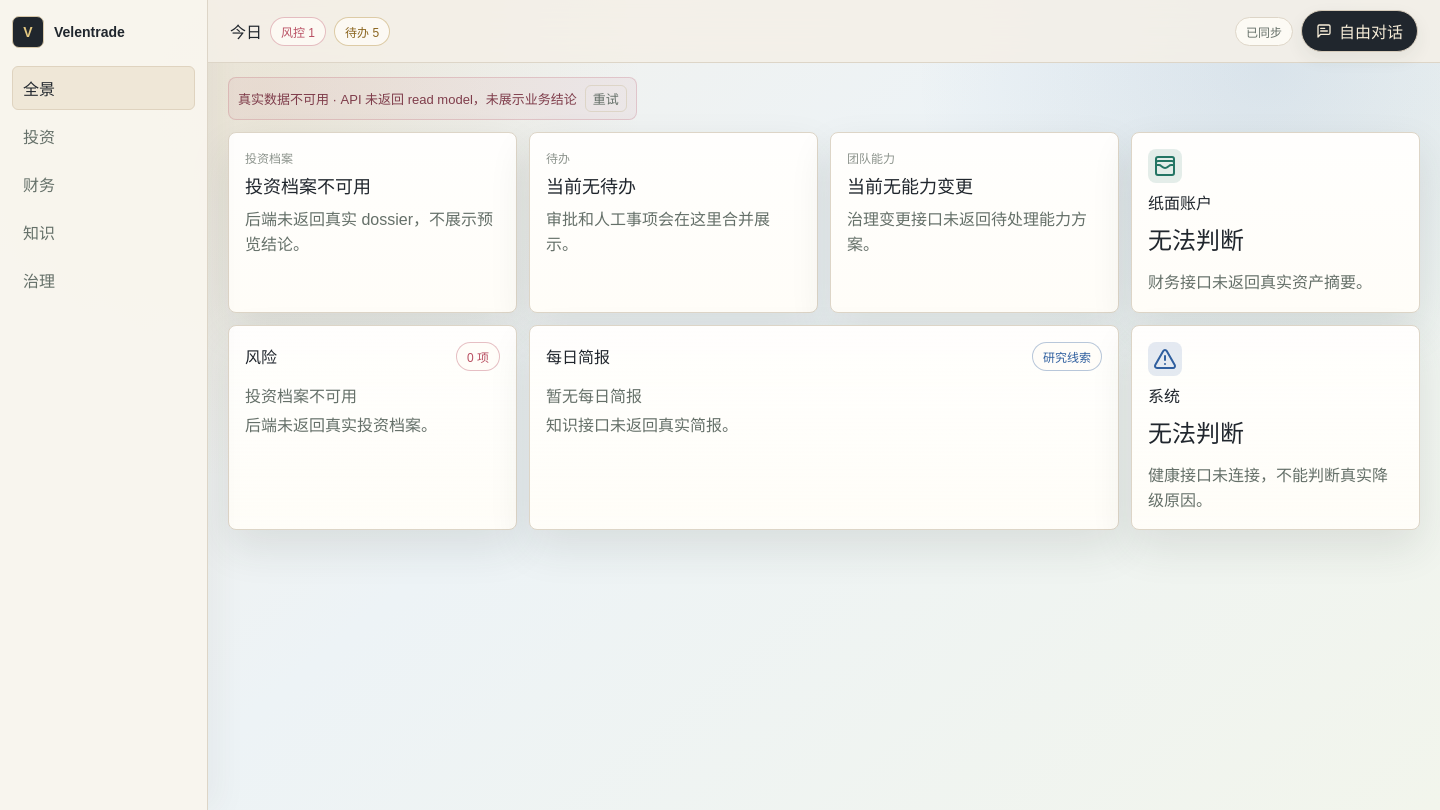
Test: WI-004 workbench interactions › disables duplicate request preview clicks while syncing with the API
Click the button "自由对话": (1360, 31) [1301,10,1418,52]
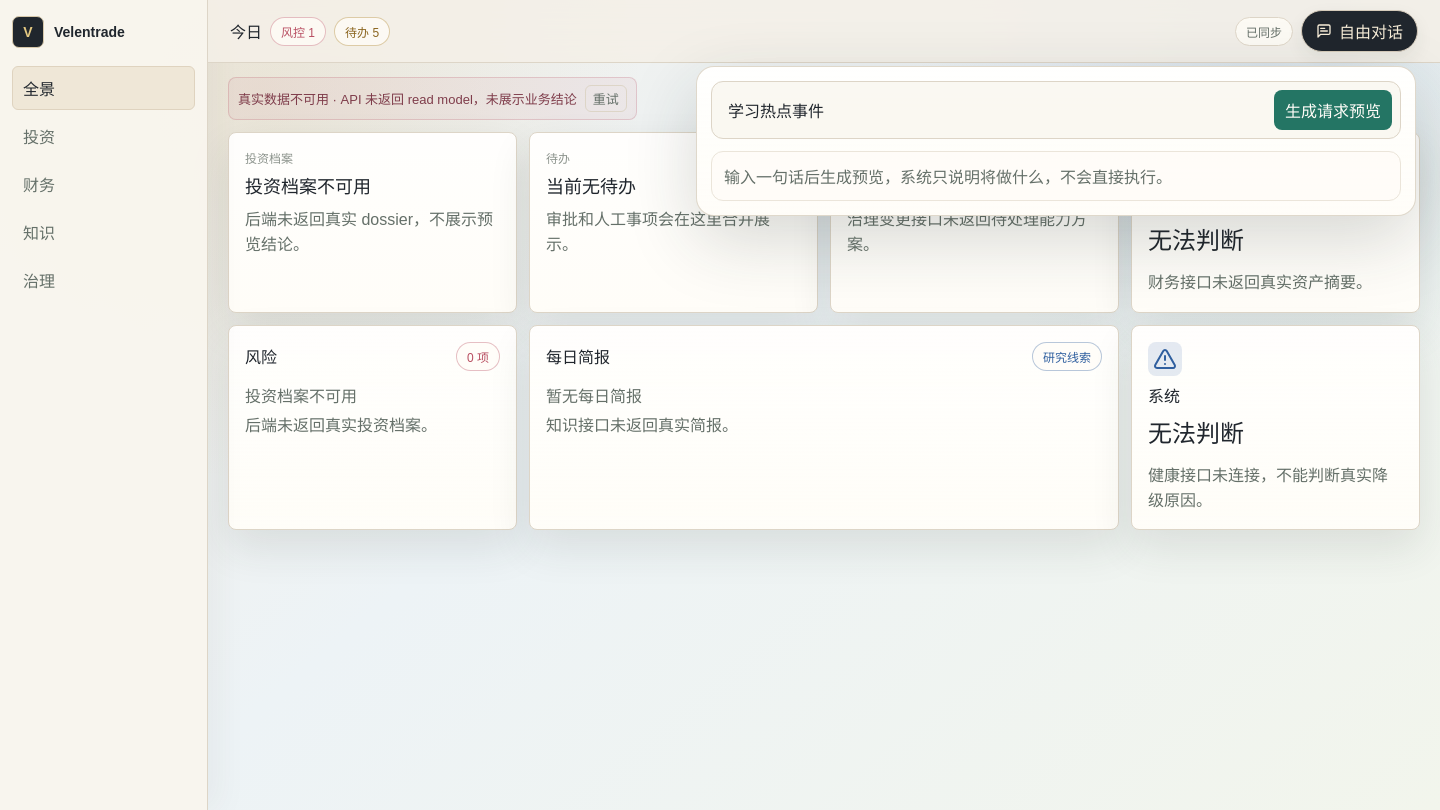
Click the button "生成请求预览": (1333, 110) [1274,90,1392,130]
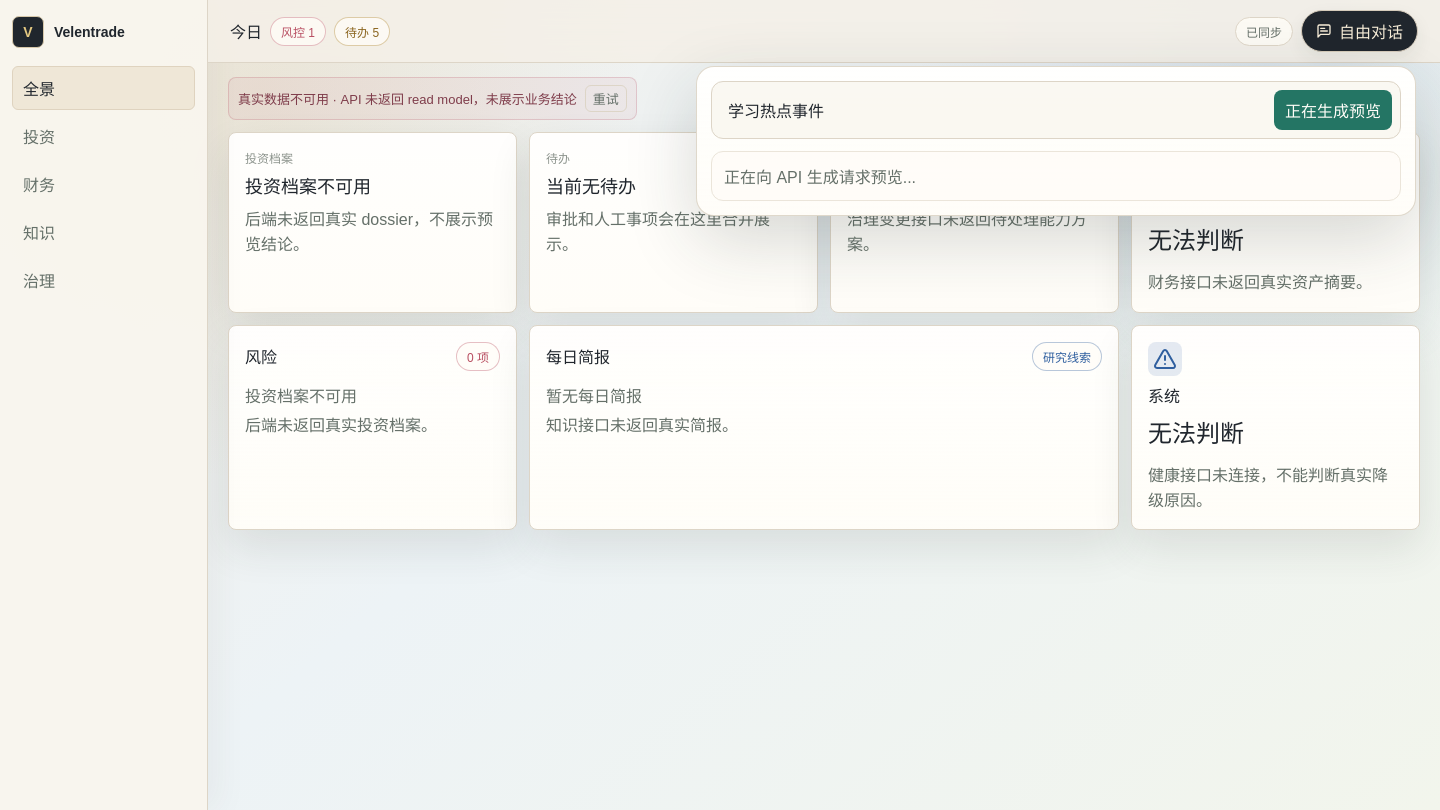
Result: the button "正在生成预览" is disabled at [1274,90,1392,130]
Result: the text "正在向 API 生成请求预览" is shown at [724,169,916,186]
